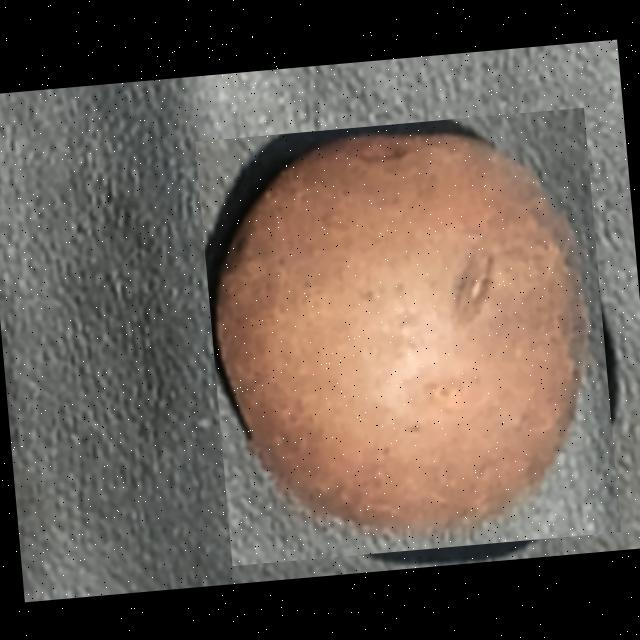Diseased-fungal potato: (193, 106, 620, 565)
